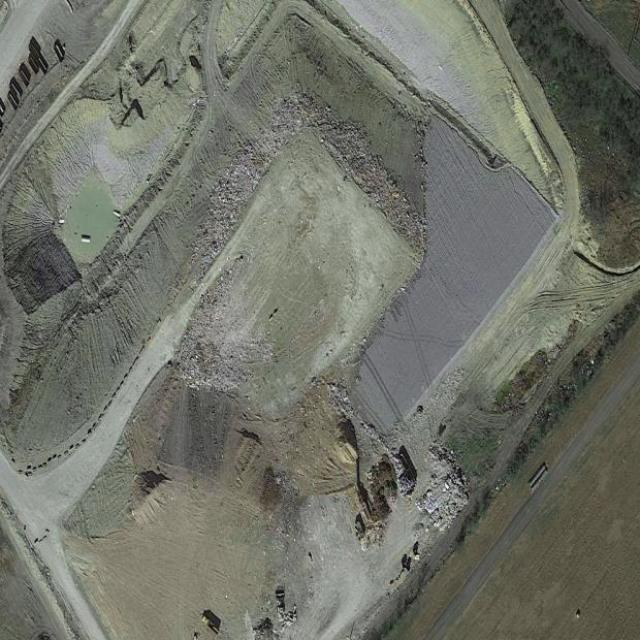dump_site: (293, 74, 439, 265), (173, 86, 307, 291), (166, 257, 293, 439), (410, 439, 474, 541)
